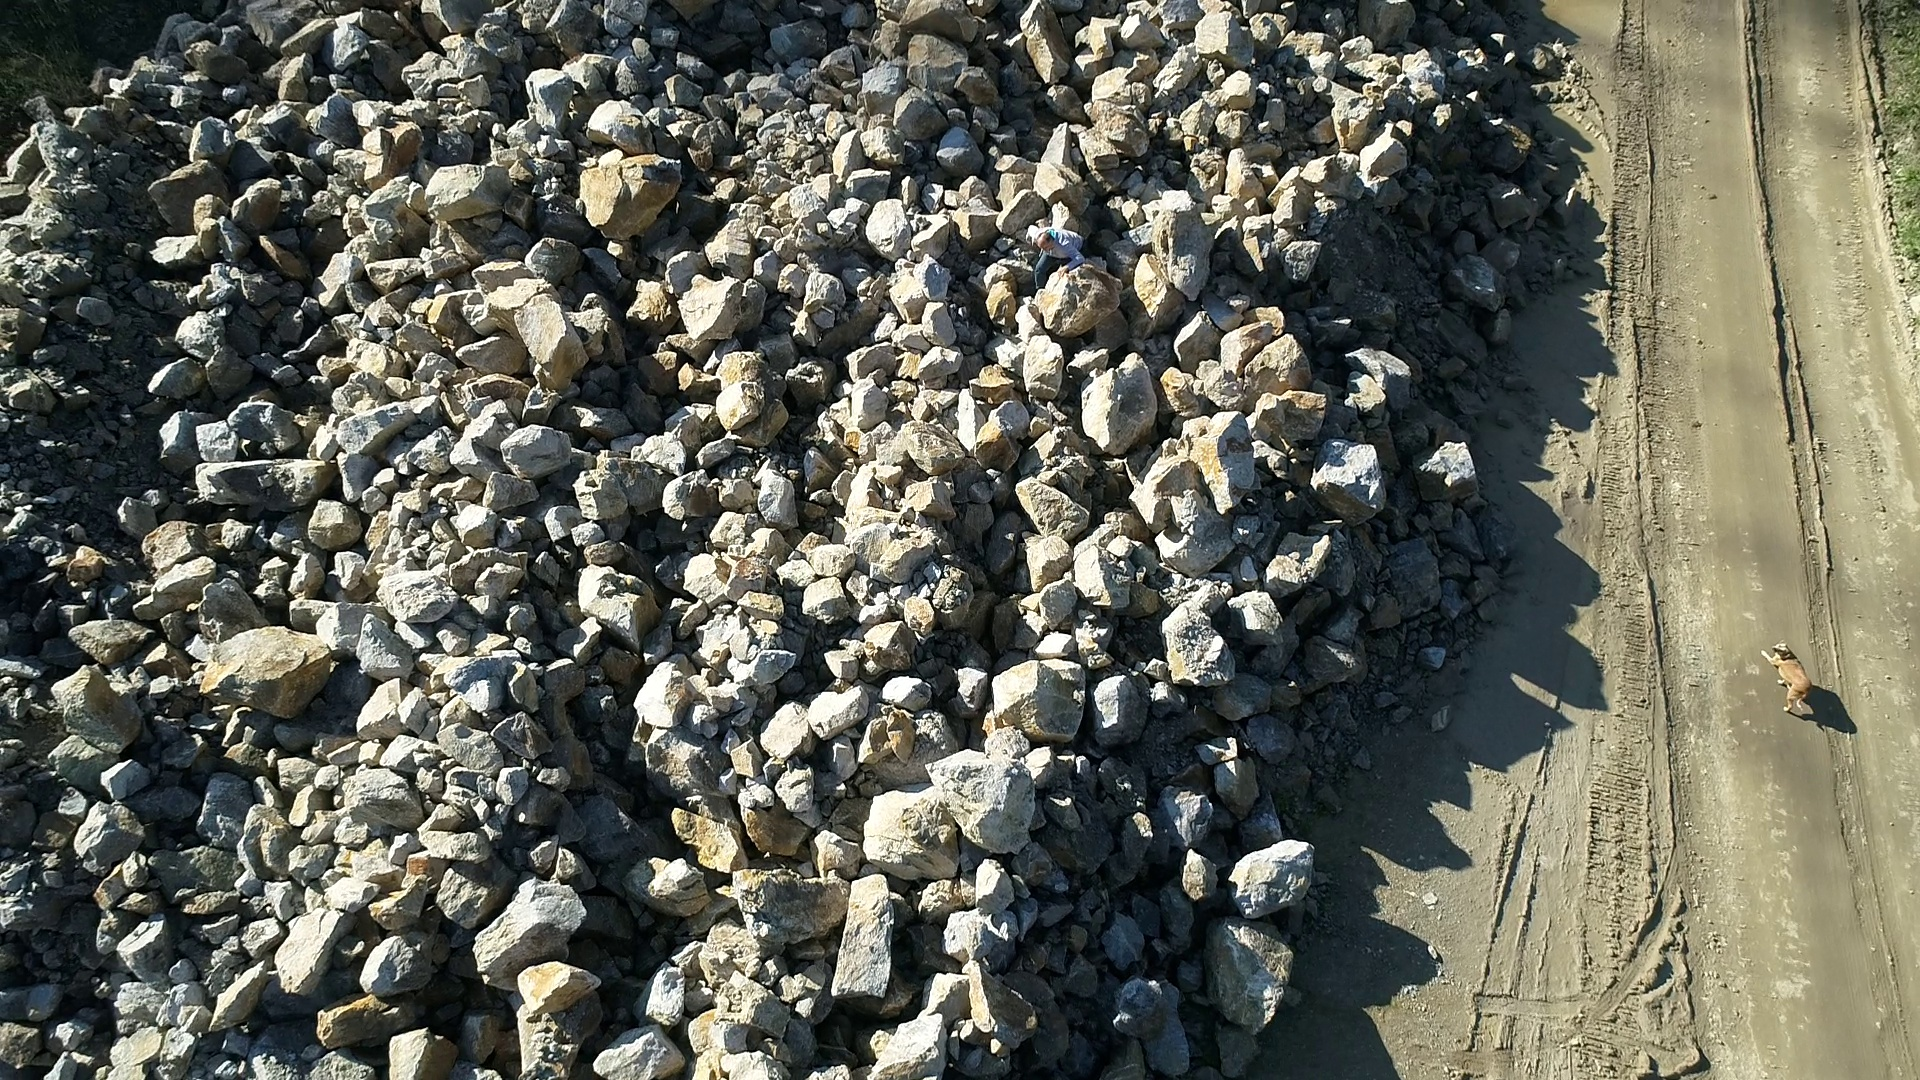not_defined: (1021, 224, 1083, 294)
